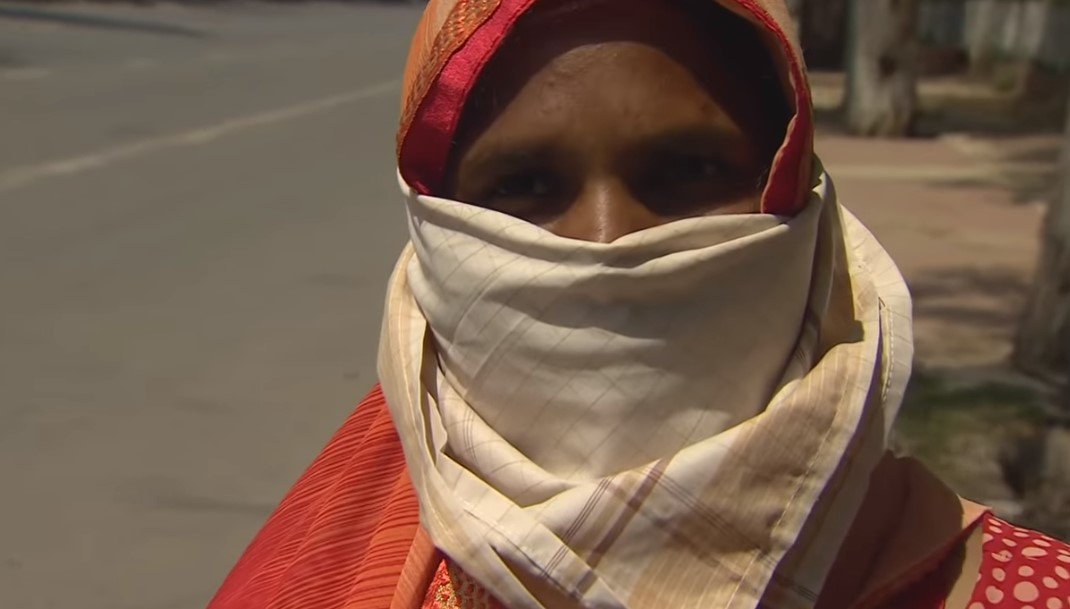face_with_mask: (397, 5, 821, 535)
